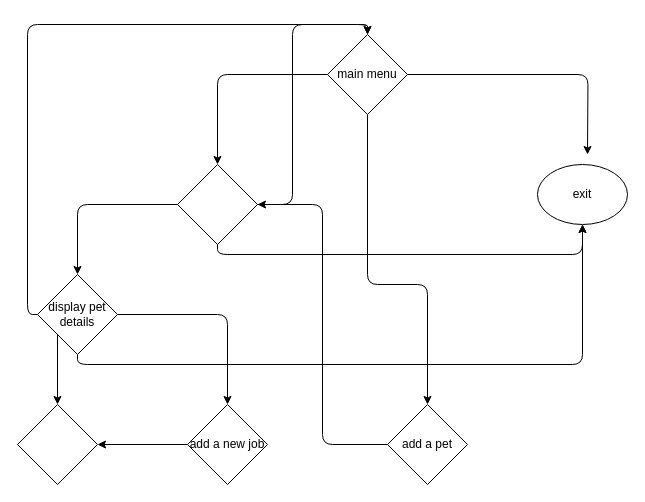
This 645x502 diagram has some shape labels left out. Here are the shapes that lost their labels. From the top down, the box of each, then its label:
(176, 164, 258, 244): display all pets
(16, 404, 98, 484): display a pet's jobs
